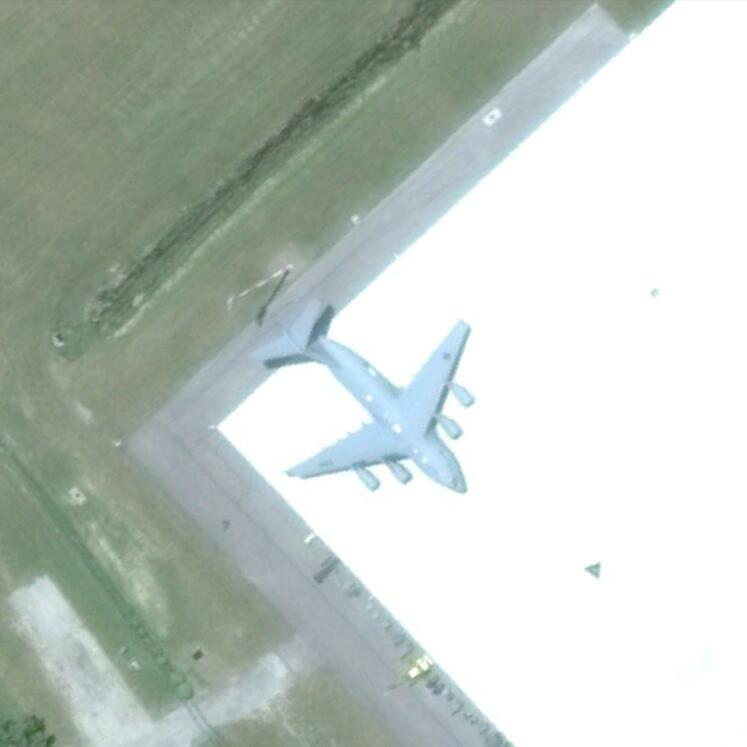A3: (255, 294, 474, 497)
